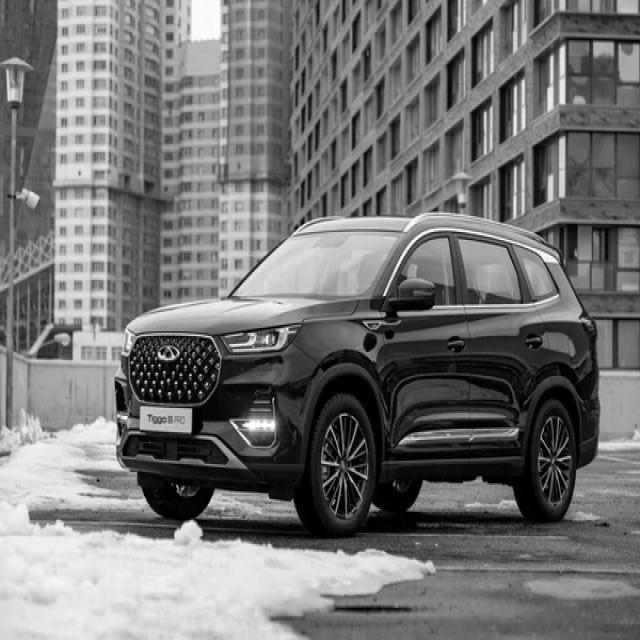Car: (114, 214, 601, 537)
